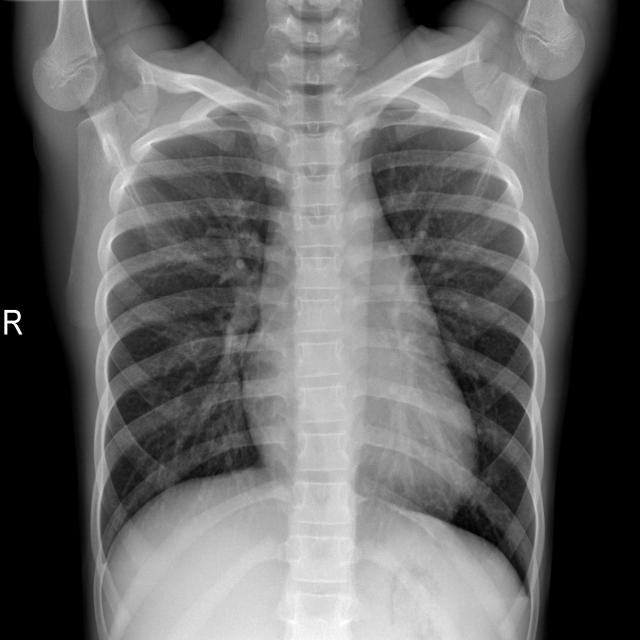no-pneumonia: (362, 99, 546, 601), (93, 100, 287, 561)
